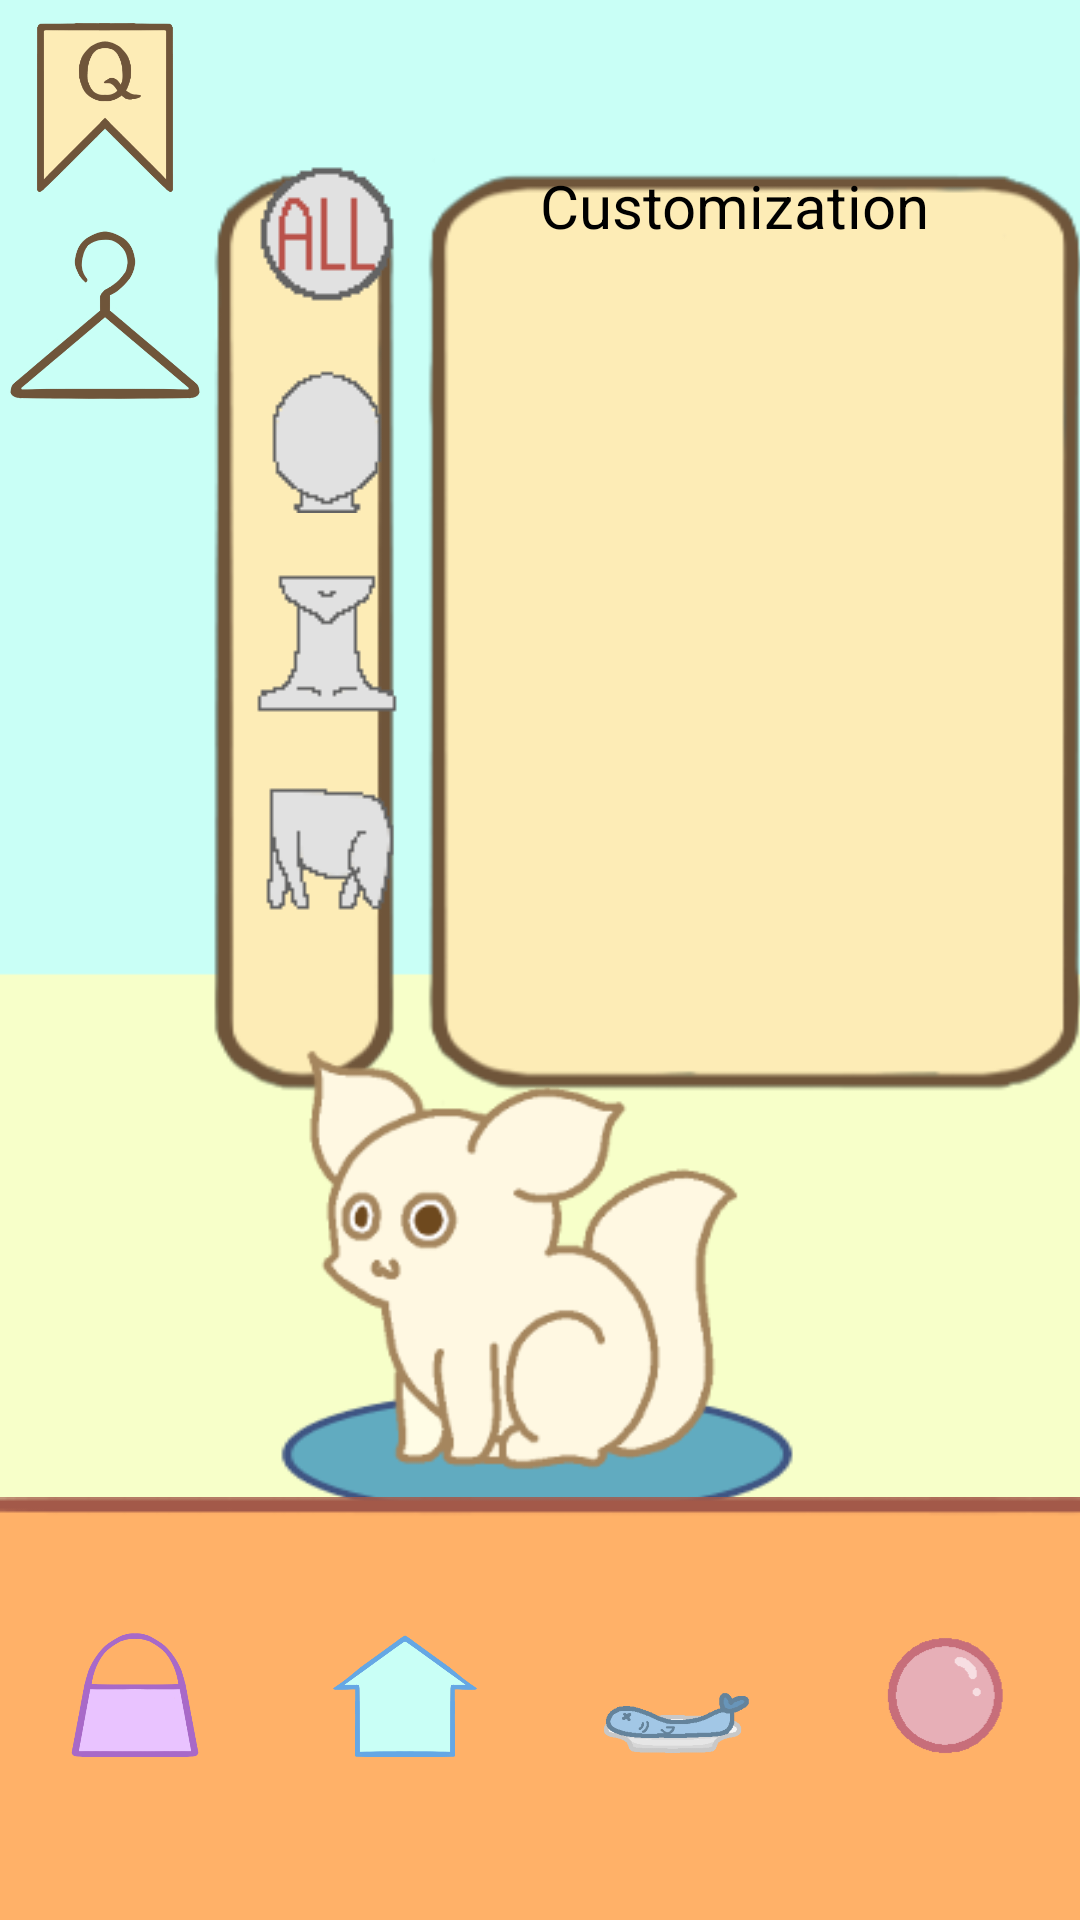

Where to tap for icons on this 1080*1920 app screen, as (x,y):
body: (332,849)
custom: (105,315)
head: (327,471)
neck: (328,675)
quest: (105,107)
